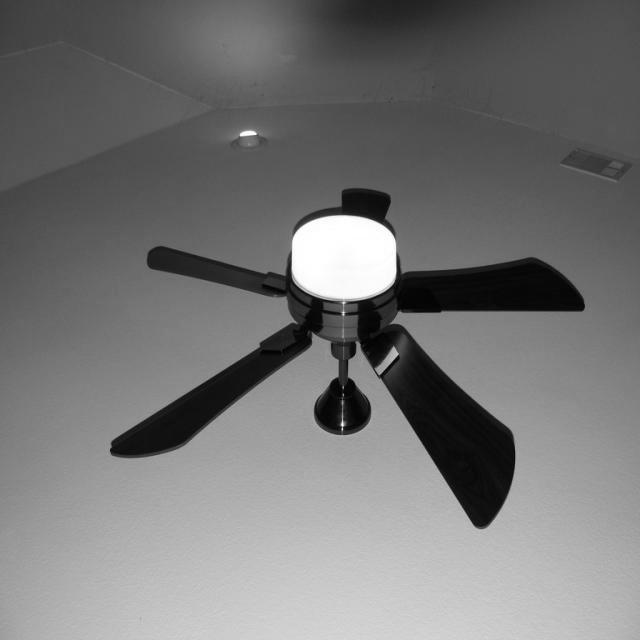fan: (109, 188, 585, 530)
